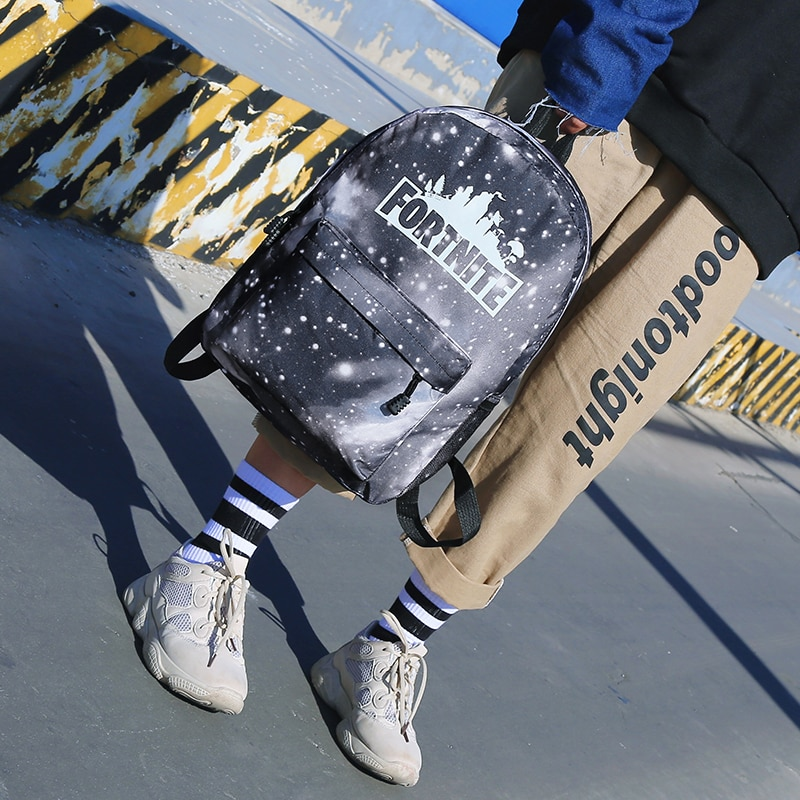Bottoms|Pants: (409, 121, 758, 614)
Men's Backpacks: (162, 99, 593, 549)
Shoes: (121, 537, 251, 717), (308, 616, 428, 787)
